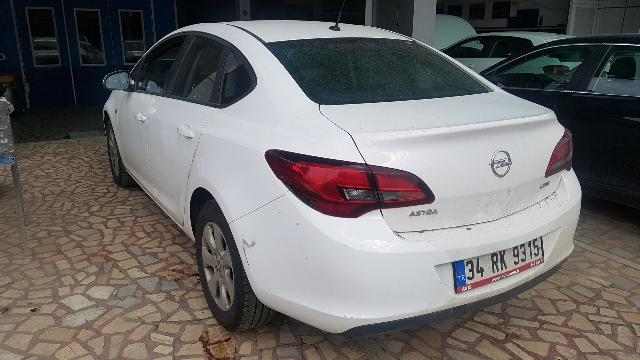rub: (242, 234, 256, 254), (296, 222, 300, 226)
scratch: (187, 148, 197, 186), (242, 245, 250, 269), (291, 203, 300, 214), (340, 242, 353, 249), (343, 315, 358, 319), (292, 262, 301, 267), (438, 279, 443, 286), (302, 248, 307, 251), (359, 318, 366, 320), (296, 218, 300, 221), (306, 254, 308, 259), (278, 211, 281, 214), (302, 233, 306, 235), (300, 251, 302, 253)
